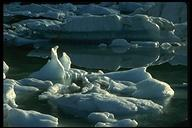ice: (33, 65, 171, 117)
water: (4, 49, 46, 78), (147, 59, 188, 84)
